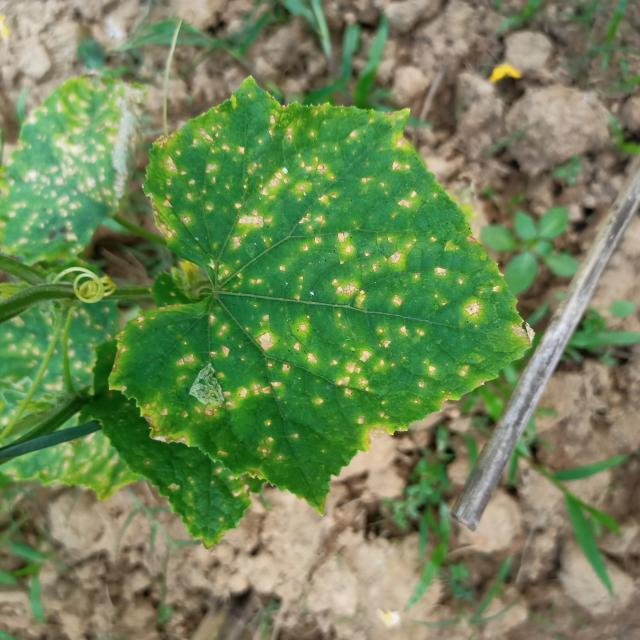disease_cucumber: (128, 103, 509, 470)
